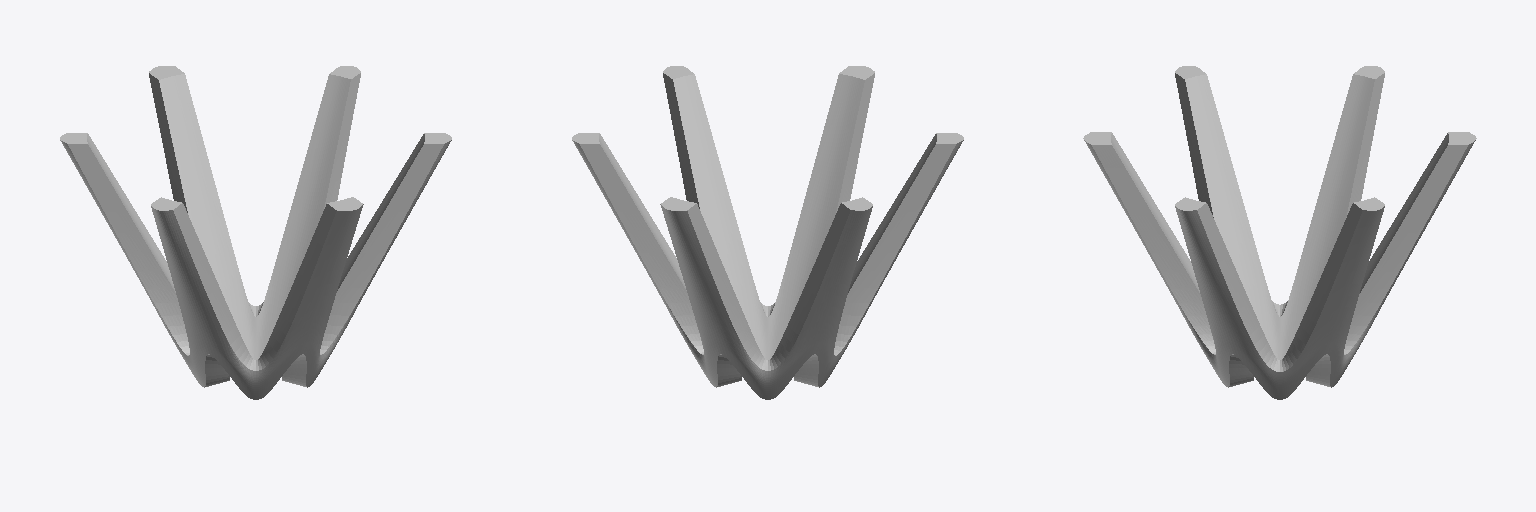
File: Engagement_9mm_Holder.obj
The picture shows the model from 3 angles: view 1: azimuth 30°, elevation 25°; view 2: azimuth 150°, elevation 25°; view 3: azimuth 270°, elevation 25°; orthographic projection.
Visible parts, largest first — view 1: Circle.002; view 2: Circle.002; view 3: Circle.002.
Part boxes in pixels (left/top/right/bottom): Circle.002: left=60, top=66, right=451, bottom=399; Circle.002: left=572, top=66, right=963, bottom=399; Circle.002: left=1083, top=66, right=1476, bottom=399.
Bounding box in the file's own units: 11.73 × 8.88 × 13.45.